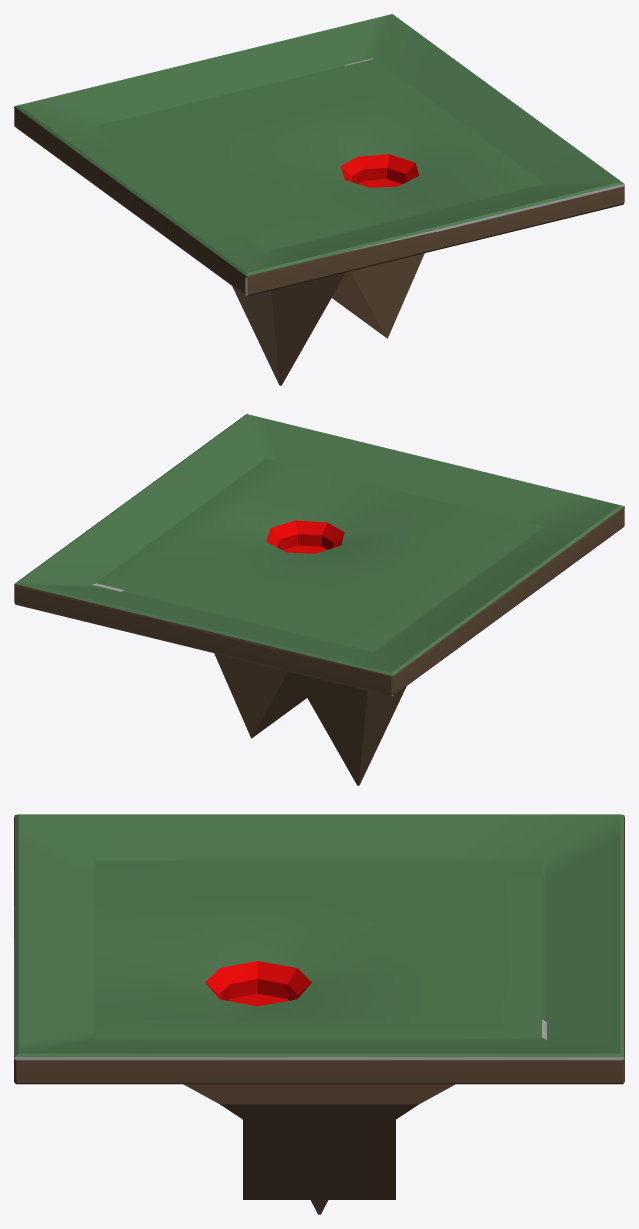
The model's file is SM_IslaFlotante.fbx.
3 renders of one model, top to bottom at view 1: azimuth 30°, elevation 25°; view 2: azimuth 150°, elevation 25°; view 3: azimuth 270°, elevation 25°, orthographic. The views are drawn at different scales.
Parts seen in each view (by area): view 1: SM_IslaFlotante; view 2: SM_IslaFlotante; view 3: SM_IslaFlotante.
Part boxes in pixels (x1,y1,x2,y2): SM_IslaFlotante: (14,14,624,385); SM_IslaFlotante: (14,414,624,785); SM_IslaFlotante: (14,814,624,1214).
Bounding box in the file's own units: 598 × 350 × 635.
